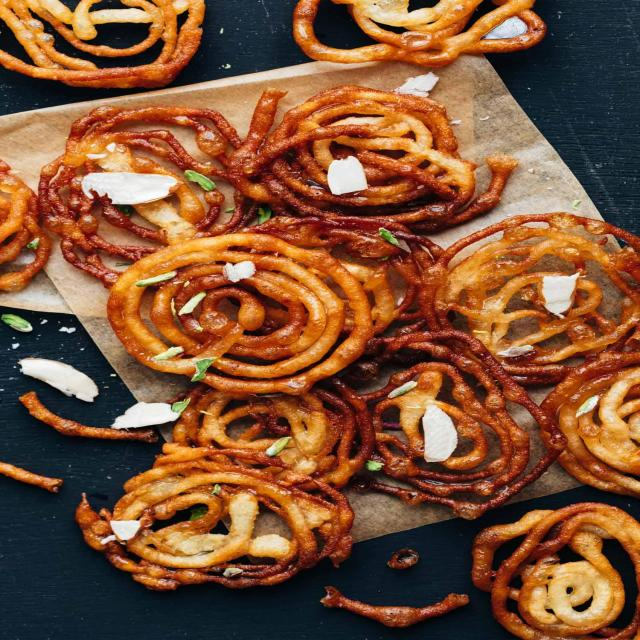jalebi: (42, 107, 640, 639), (6, 0, 237, 98), (299, 9, 595, 71)
